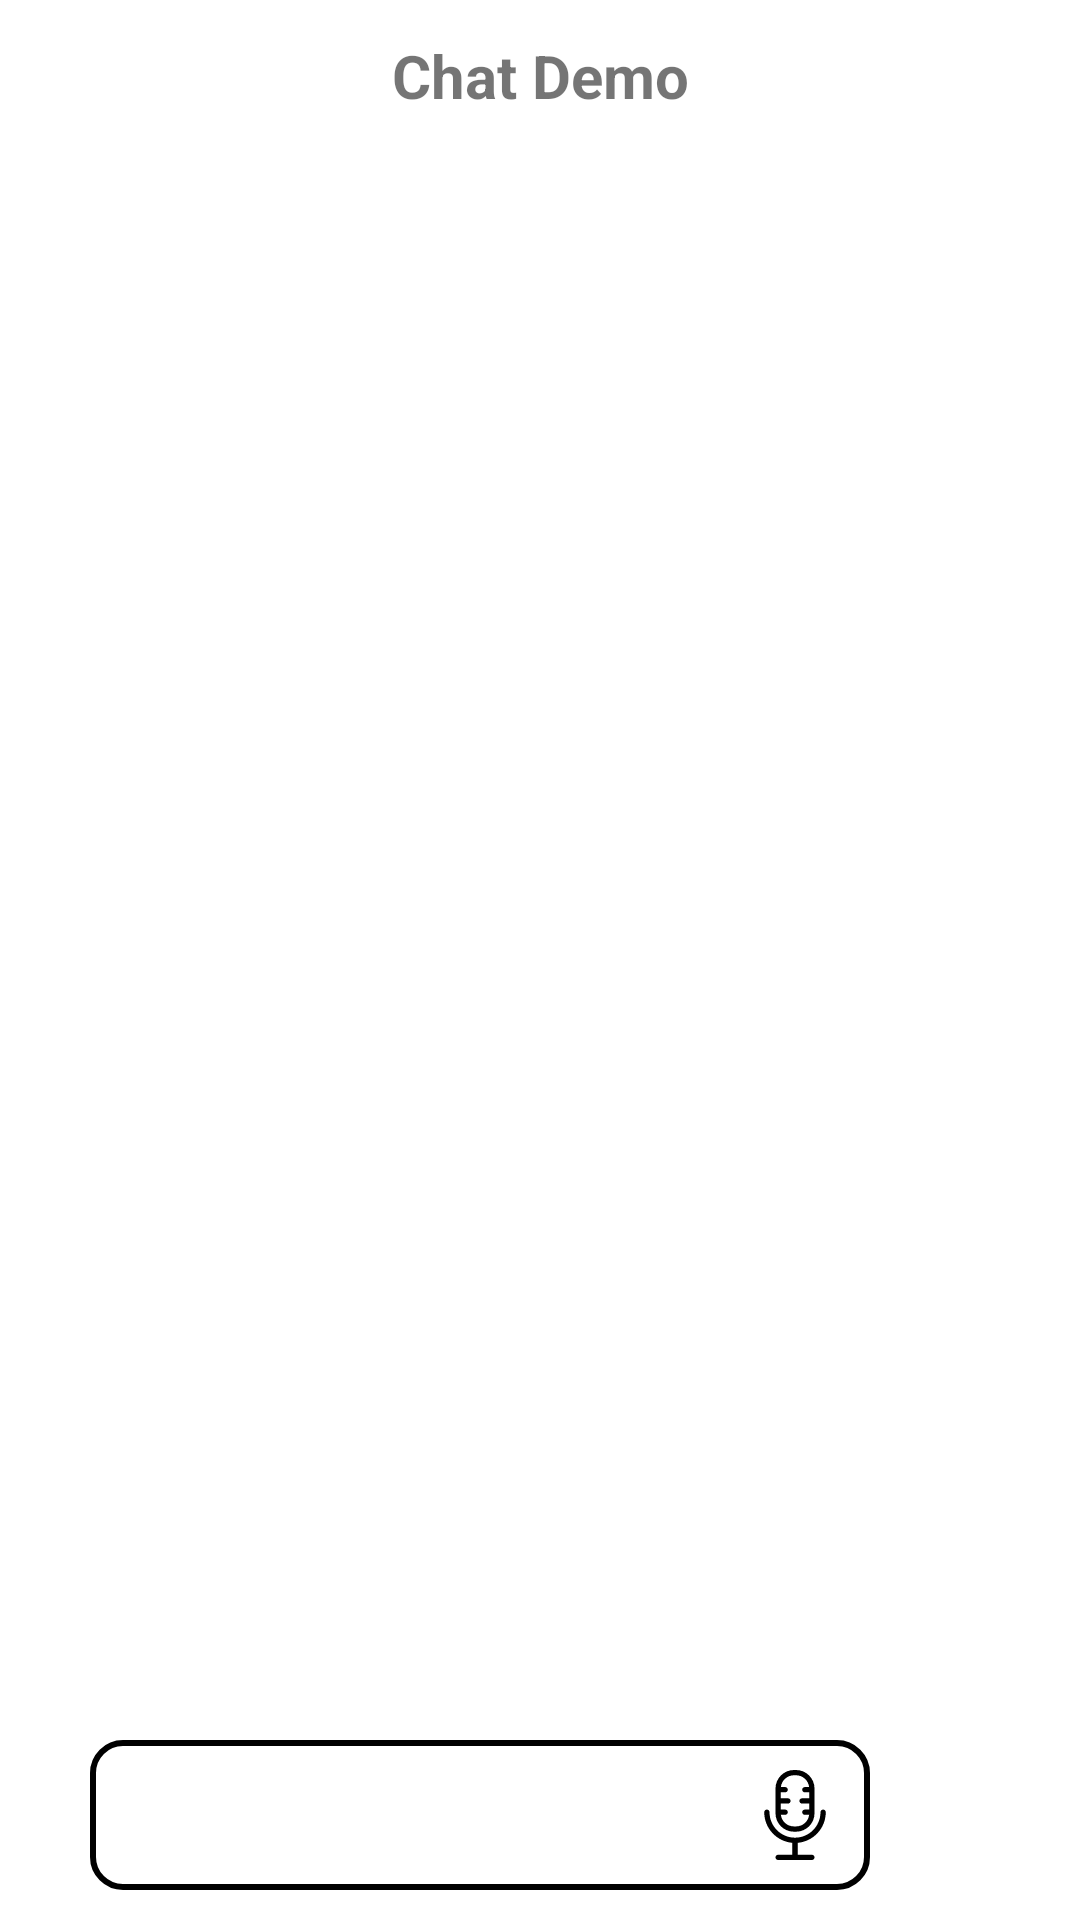

Named icons in this screenshot (1080px x 1920px) and their centers, (x,y):
microphone: (795,1815)
